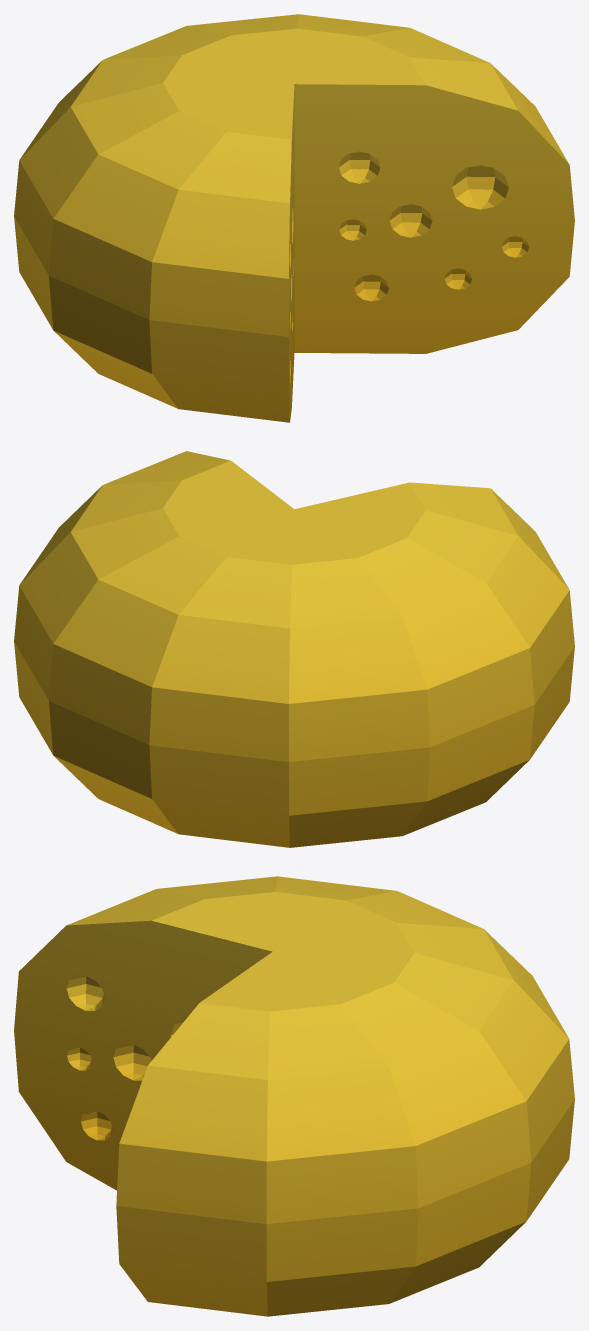
Rendered from cheese_2.glb.
3 renders of one model, top to bottom at view 1: azimuth 30°, elevation 25°; view 2: azimuth 150°, elevation 25°; view 3: azimuth 270°, elevation 25°, orthographic. The views are drawn at different scales.
Parts seen in each view (by area): view 1: cheese_2; view 2: cheese_2; view 3: cheese_2.
Boxes of the visible parts, box(x1,y1,x2,y2) form: cheese_2: box(14, 14, 574, 422); cheese_2: box(14, 451, 574, 847); cheese_2: box(14, 876, 574, 1316).
Bounding box in the file's own units: 0.4263 × 0.2253 × 0.3956.
Materials: 1 (1 with a texture image).
